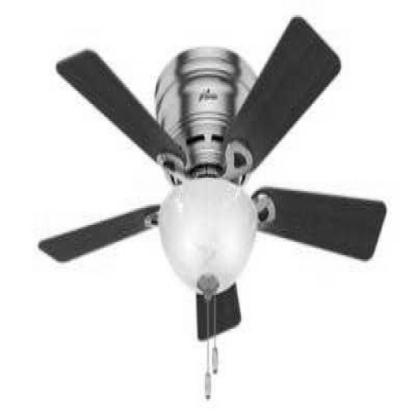ceiling-fan: (35, 13, 386, 397)
